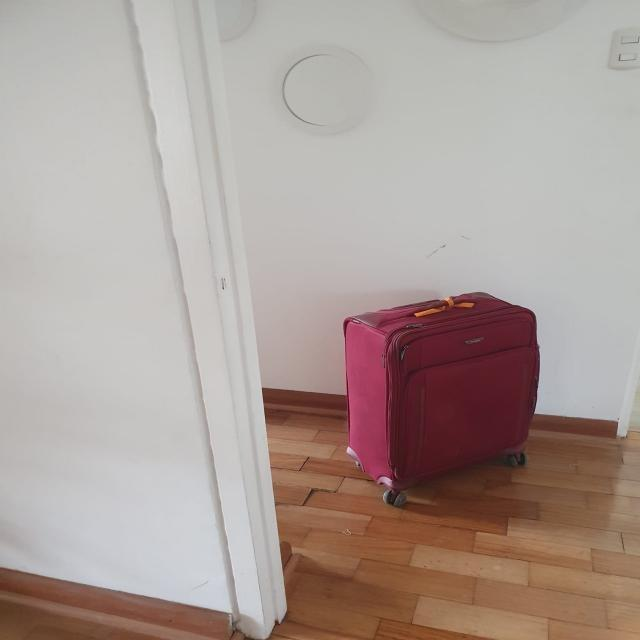Suitcase: (347, 291, 540, 506)
